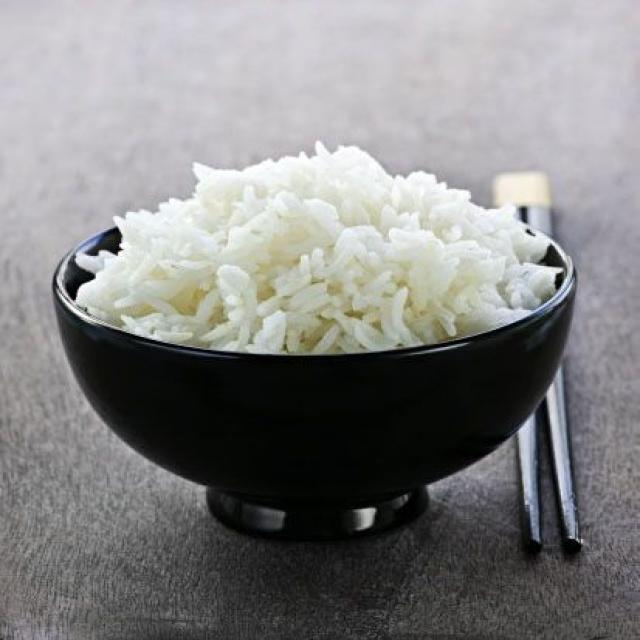rice: (76, 144, 557, 354)
